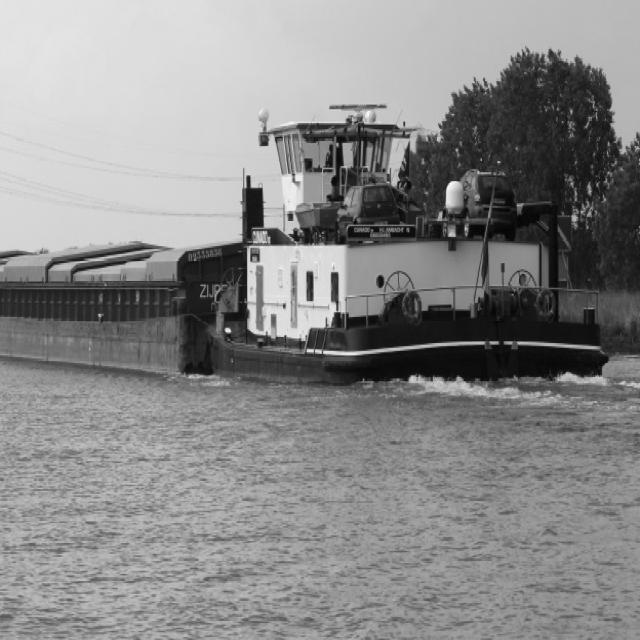tugboat: (212, 98, 616, 421)
